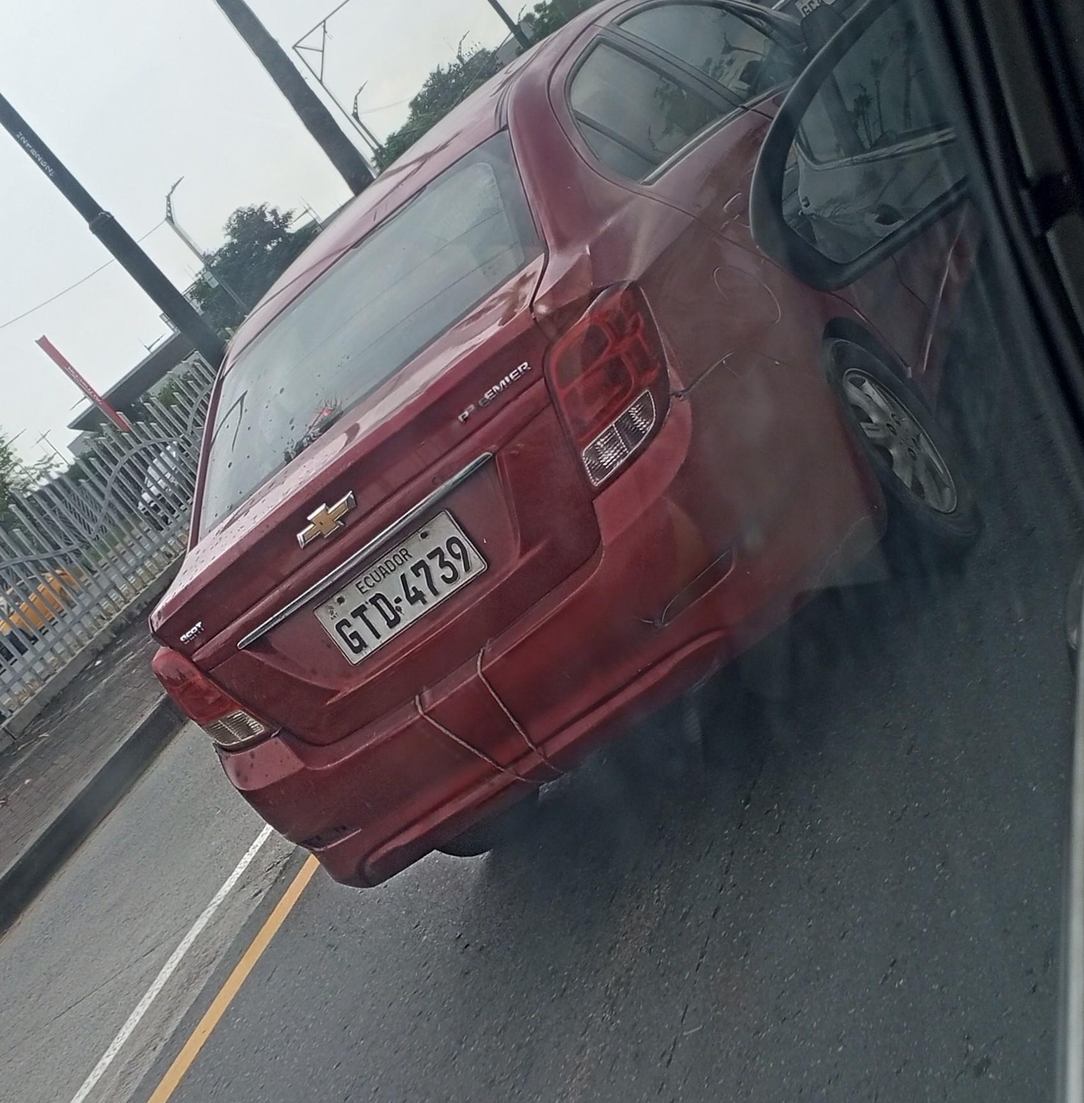license_plate: (309, 512, 488, 666)
